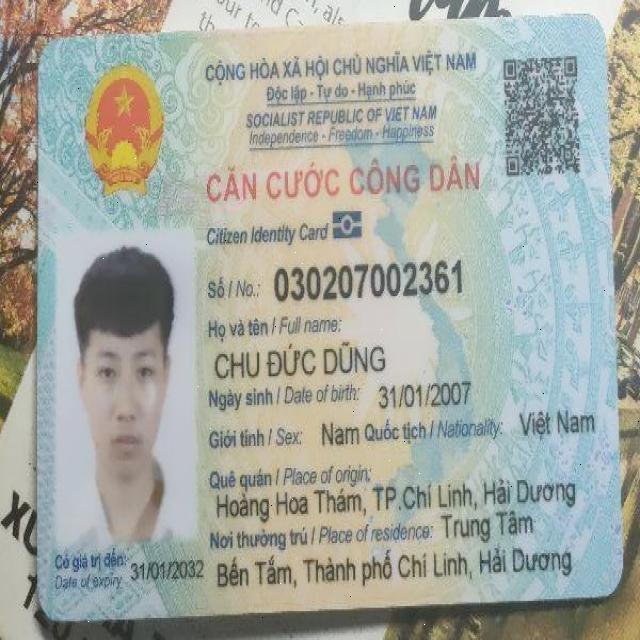current_place: (210, 544, 572, 590), (439, 510, 540, 544)
dob: (375, 381, 474, 412)
expire_date: (126, 553, 204, 582)
gender: (319, 417, 363, 453)
id: (271, 254, 467, 303)
name: (211, 340, 393, 381)
nationality: (514, 405, 594, 444)
origin_place: (206, 477, 575, 521)
